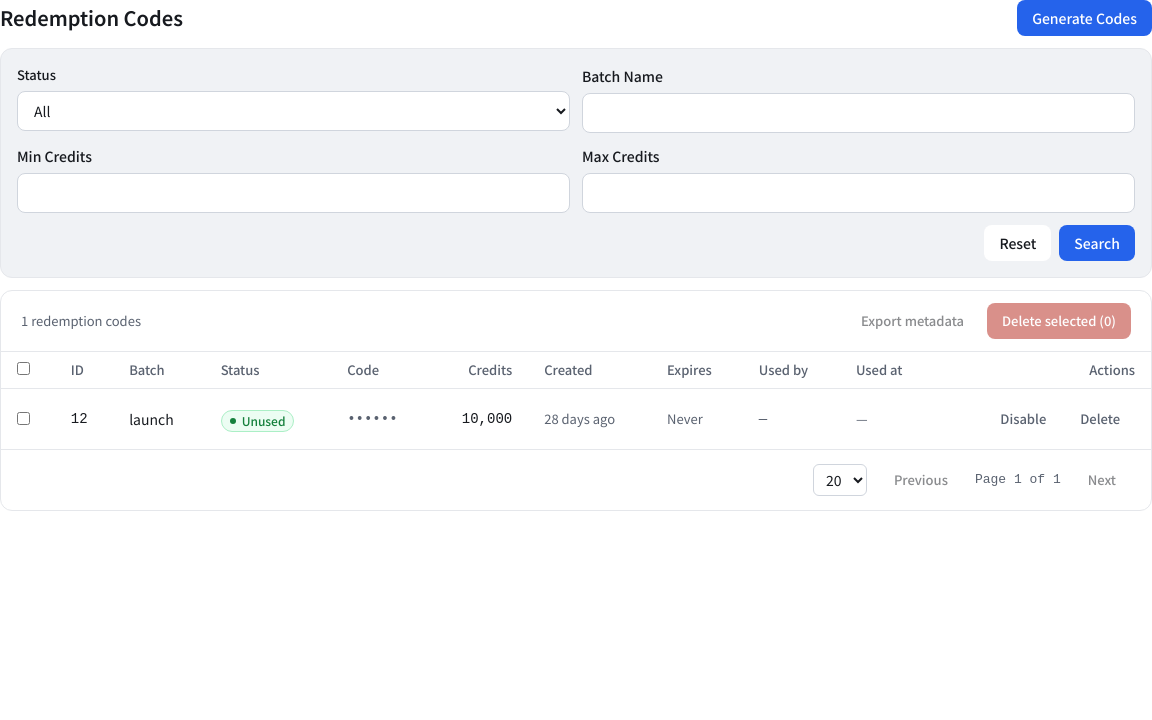
Test: RedemptionCodesPage › maps a contract 400 detail back to localized copy without leaking the internal text
Check: the text "launch" is shown, box [113,388,205,449]
Click the button "Generate Codes" at (1085, 18), box [1017,0,1151,36]
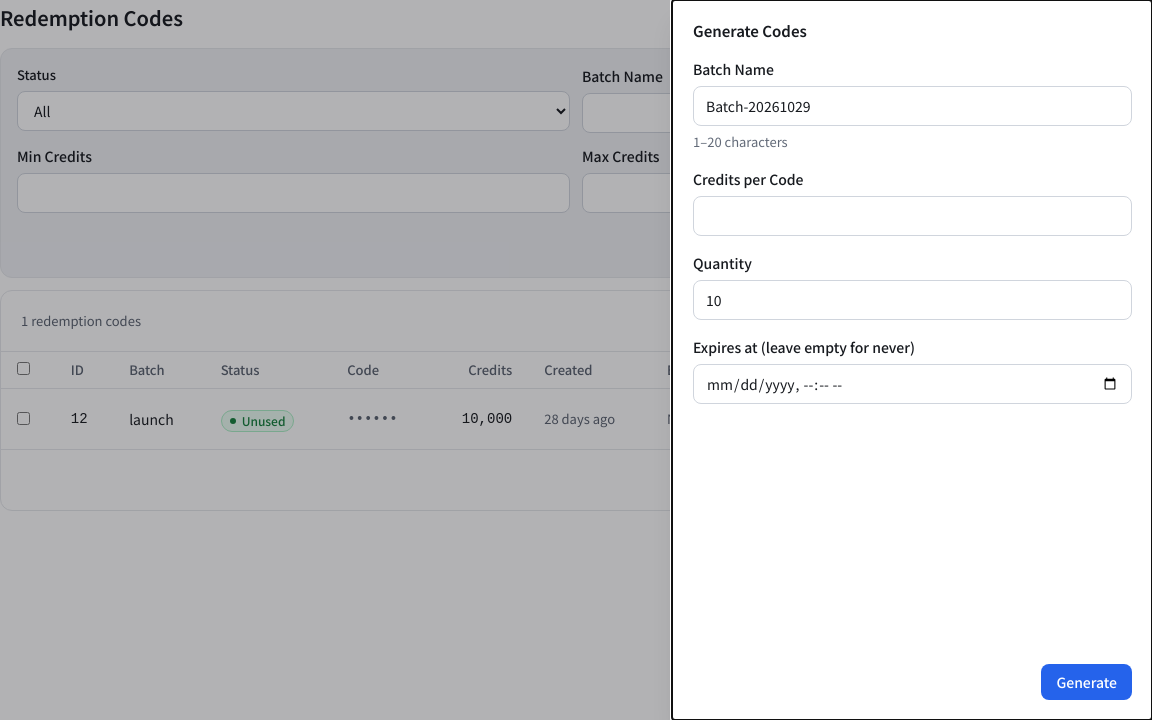
Type "100" into the field labelled "Credits per Code" at (912, 216), box [693,196,1132,236]
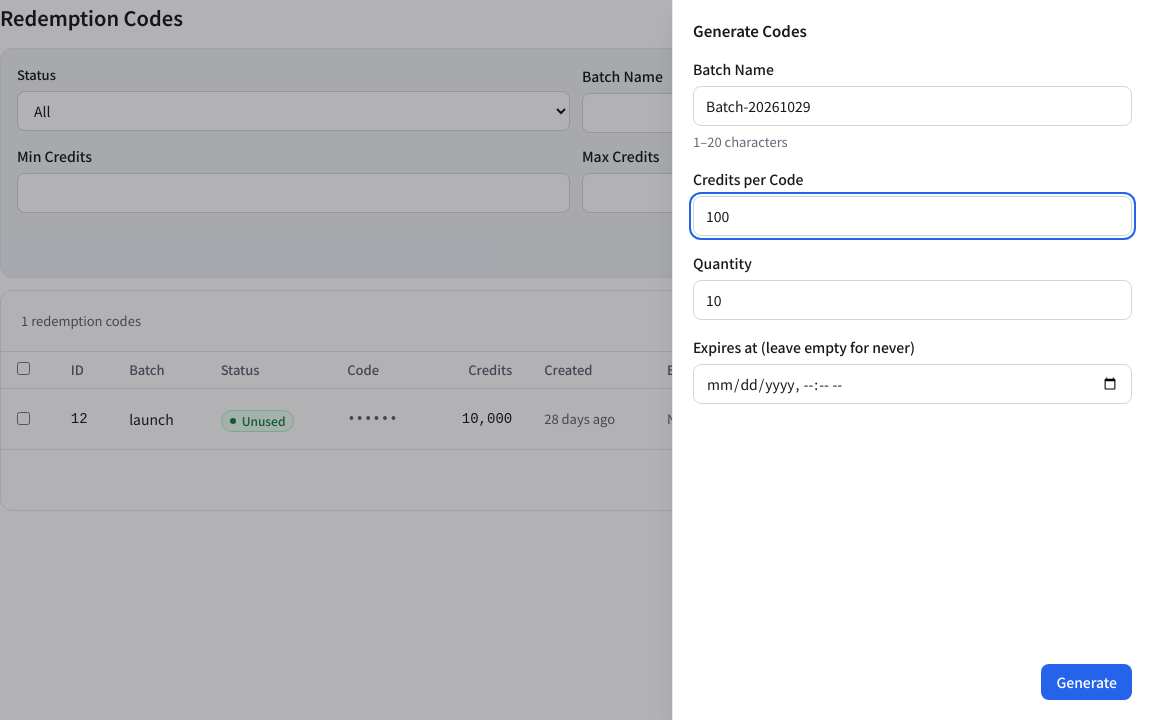
Click the button "Generate" at (1087, 682), box [1041,664,1132,700]
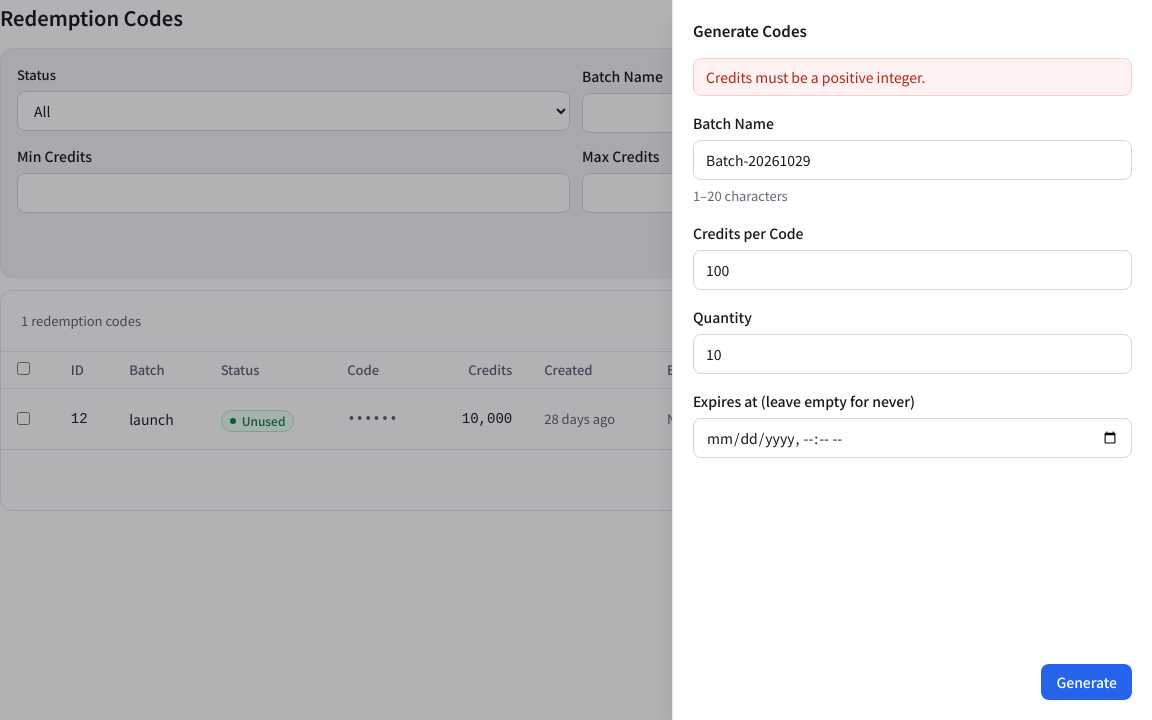
Check: the text "Credits must be a positive integer." is shown, box [693,58,1132,96]
